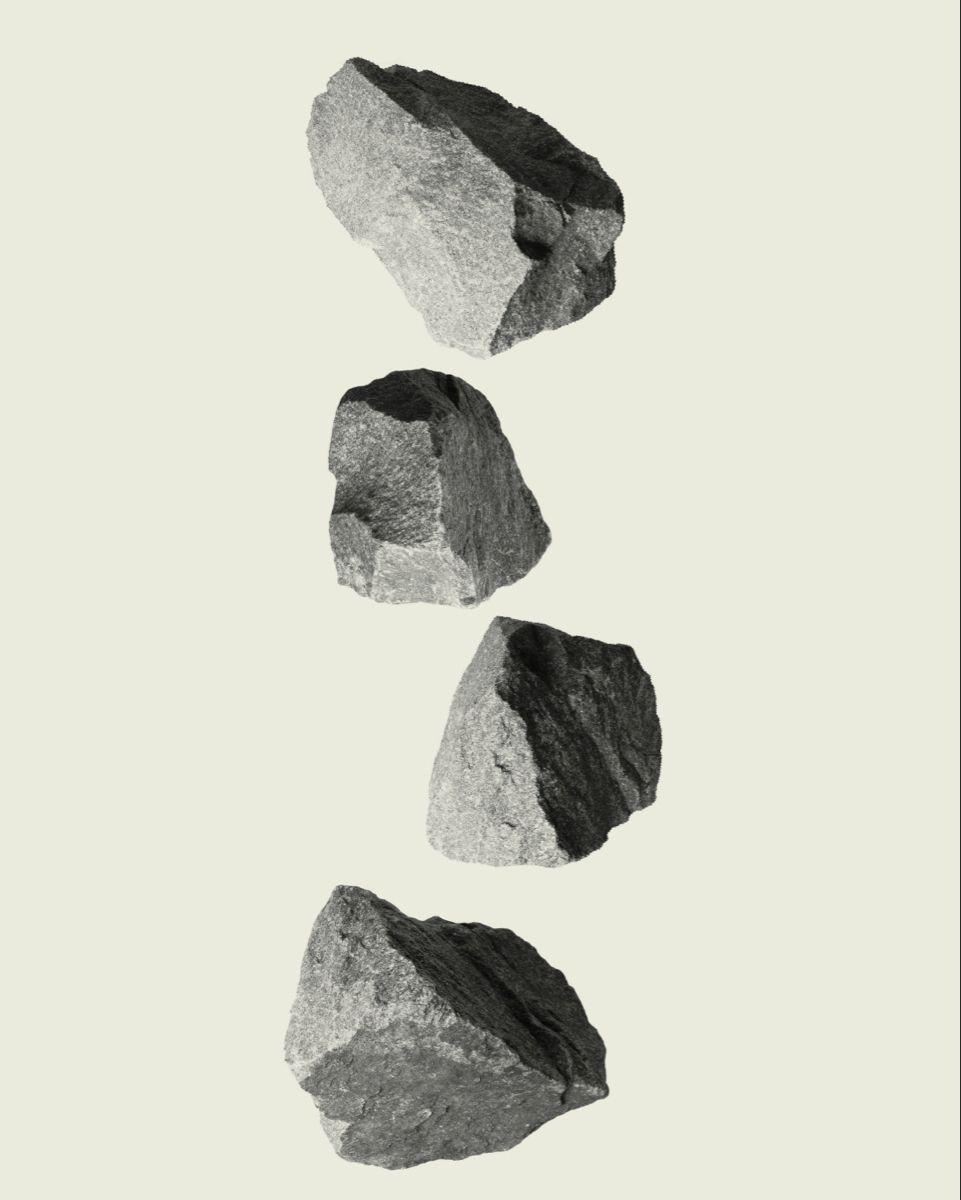non-dog: (305, 54, 628, 361), (281, 883, 613, 1171), (427, 614, 665, 869), (326, 370, 553, 608)
